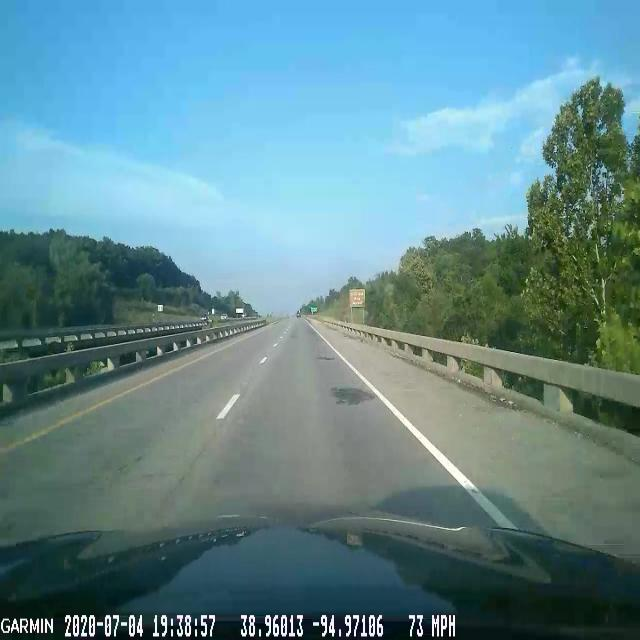Pothole: (329, 378, 374, 418)
